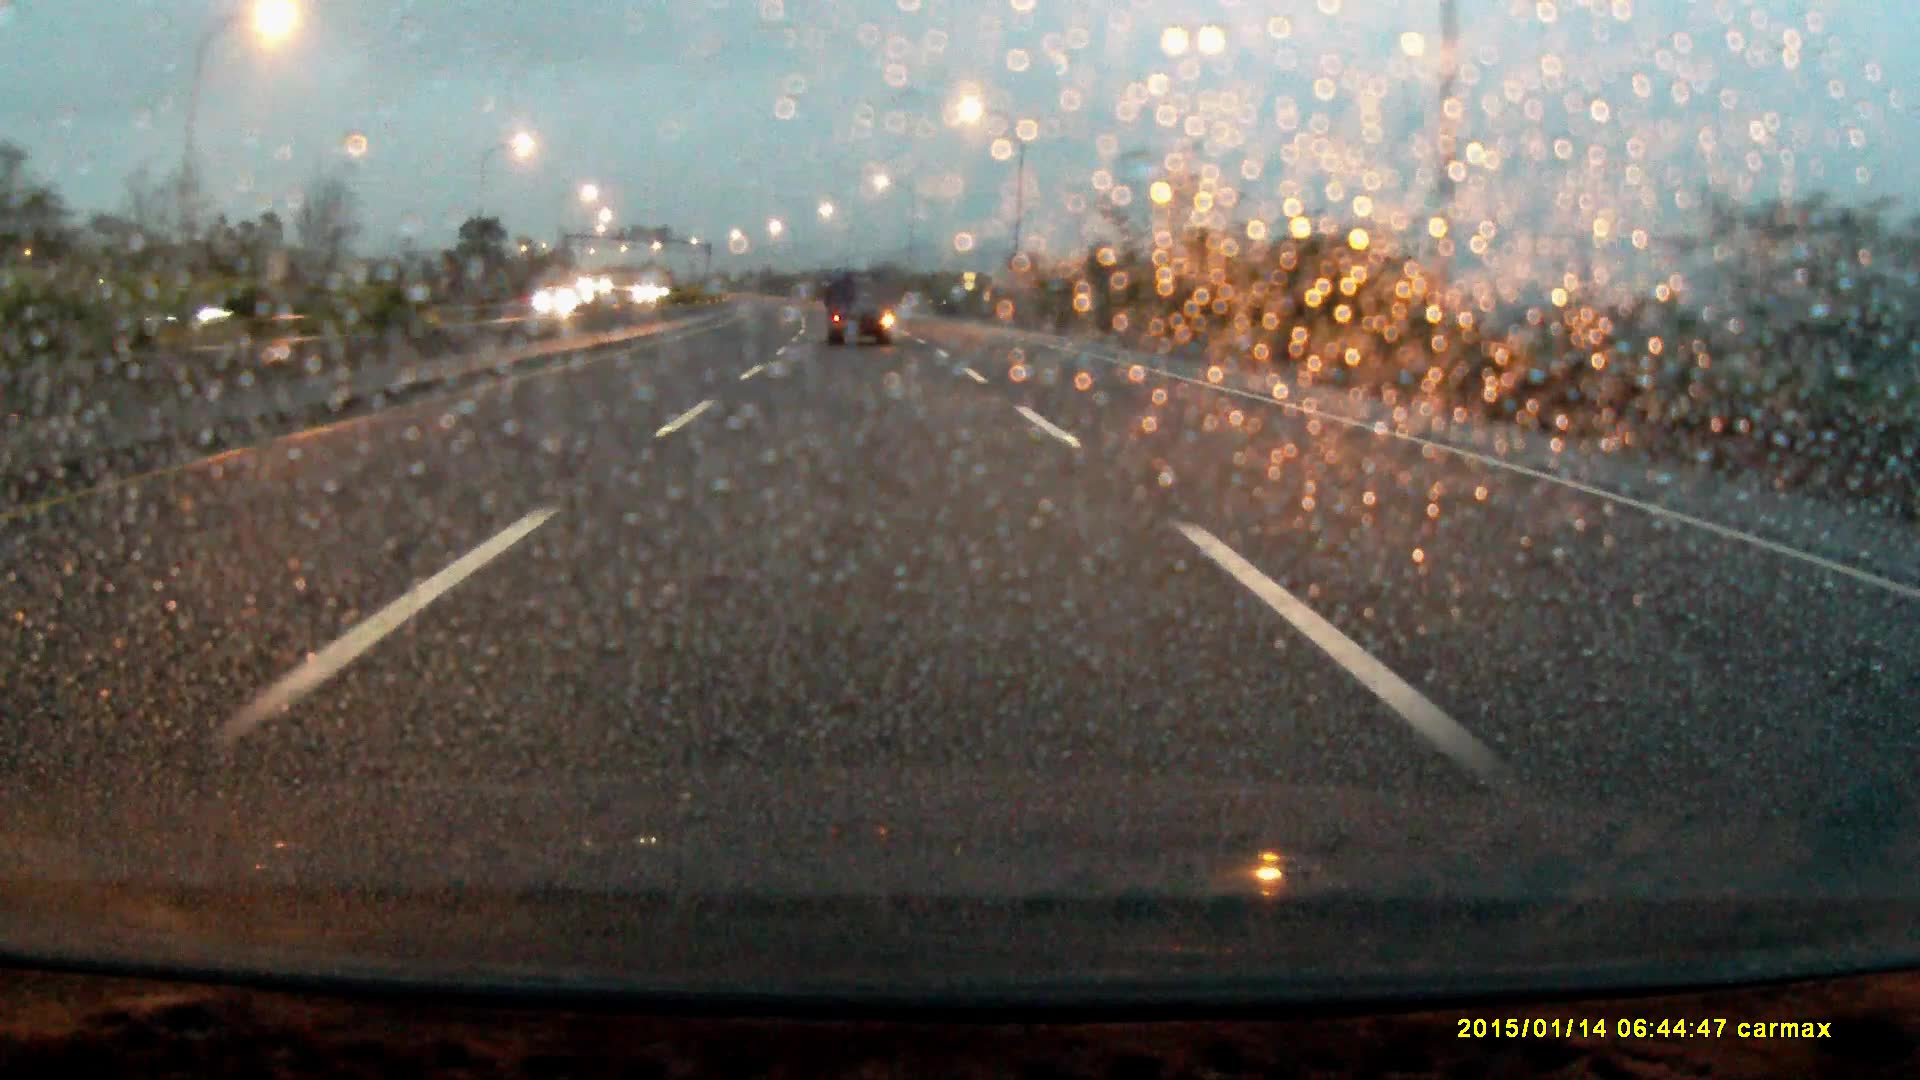vehicle: (828, 277, 895, 351), (534, 287, 596, 318)
